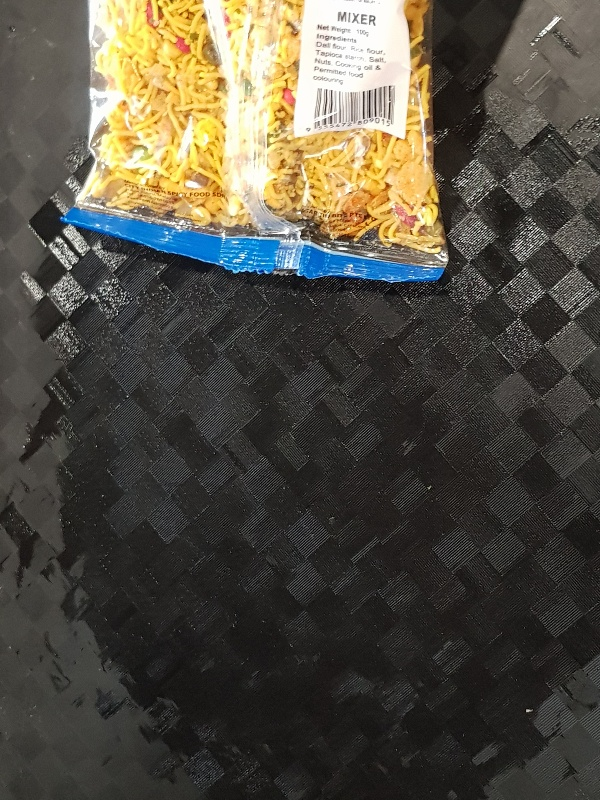Star Tidbits Mixer: (58, 1, 451, 280)
